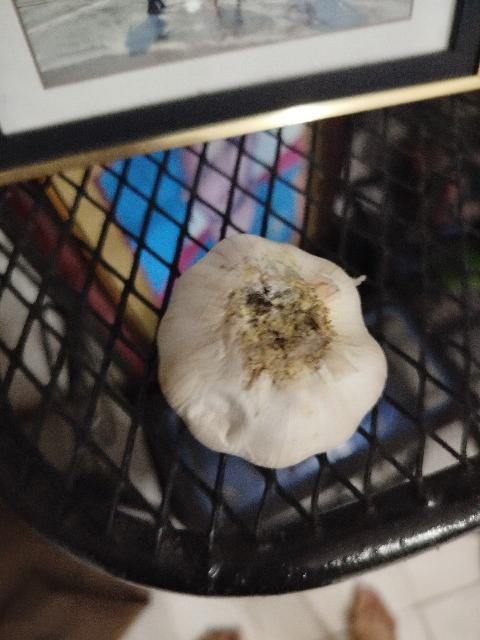garlic: (156, 233, 388, 469)
